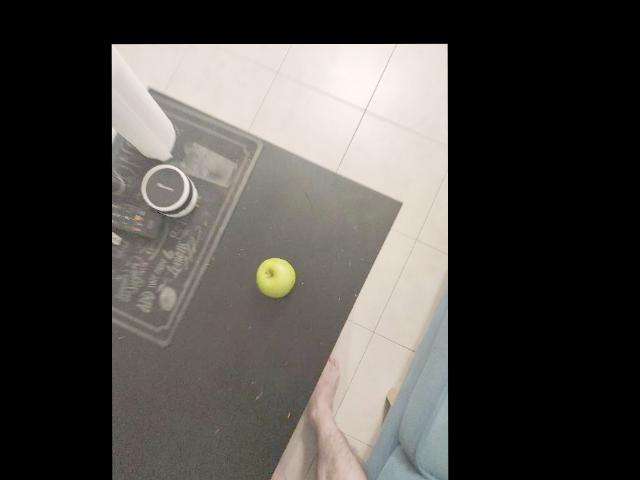apple: (320, 190, 365, 236)
